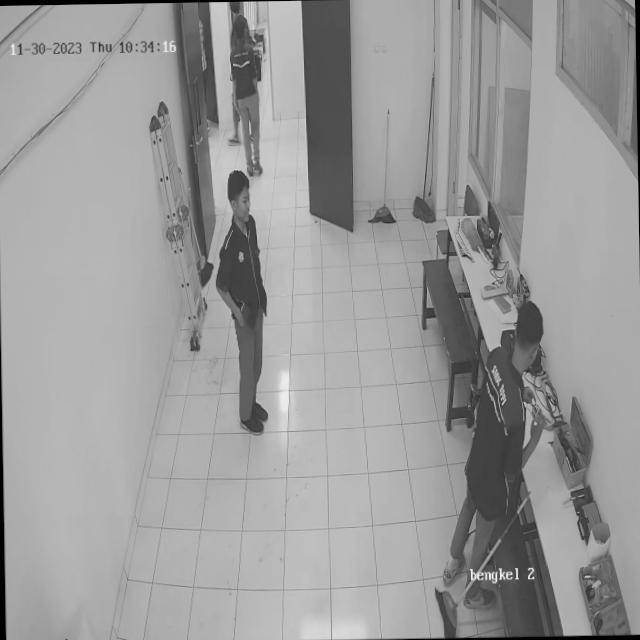person: (214, 166, 271, 436), (220, 6, 270, 183)
